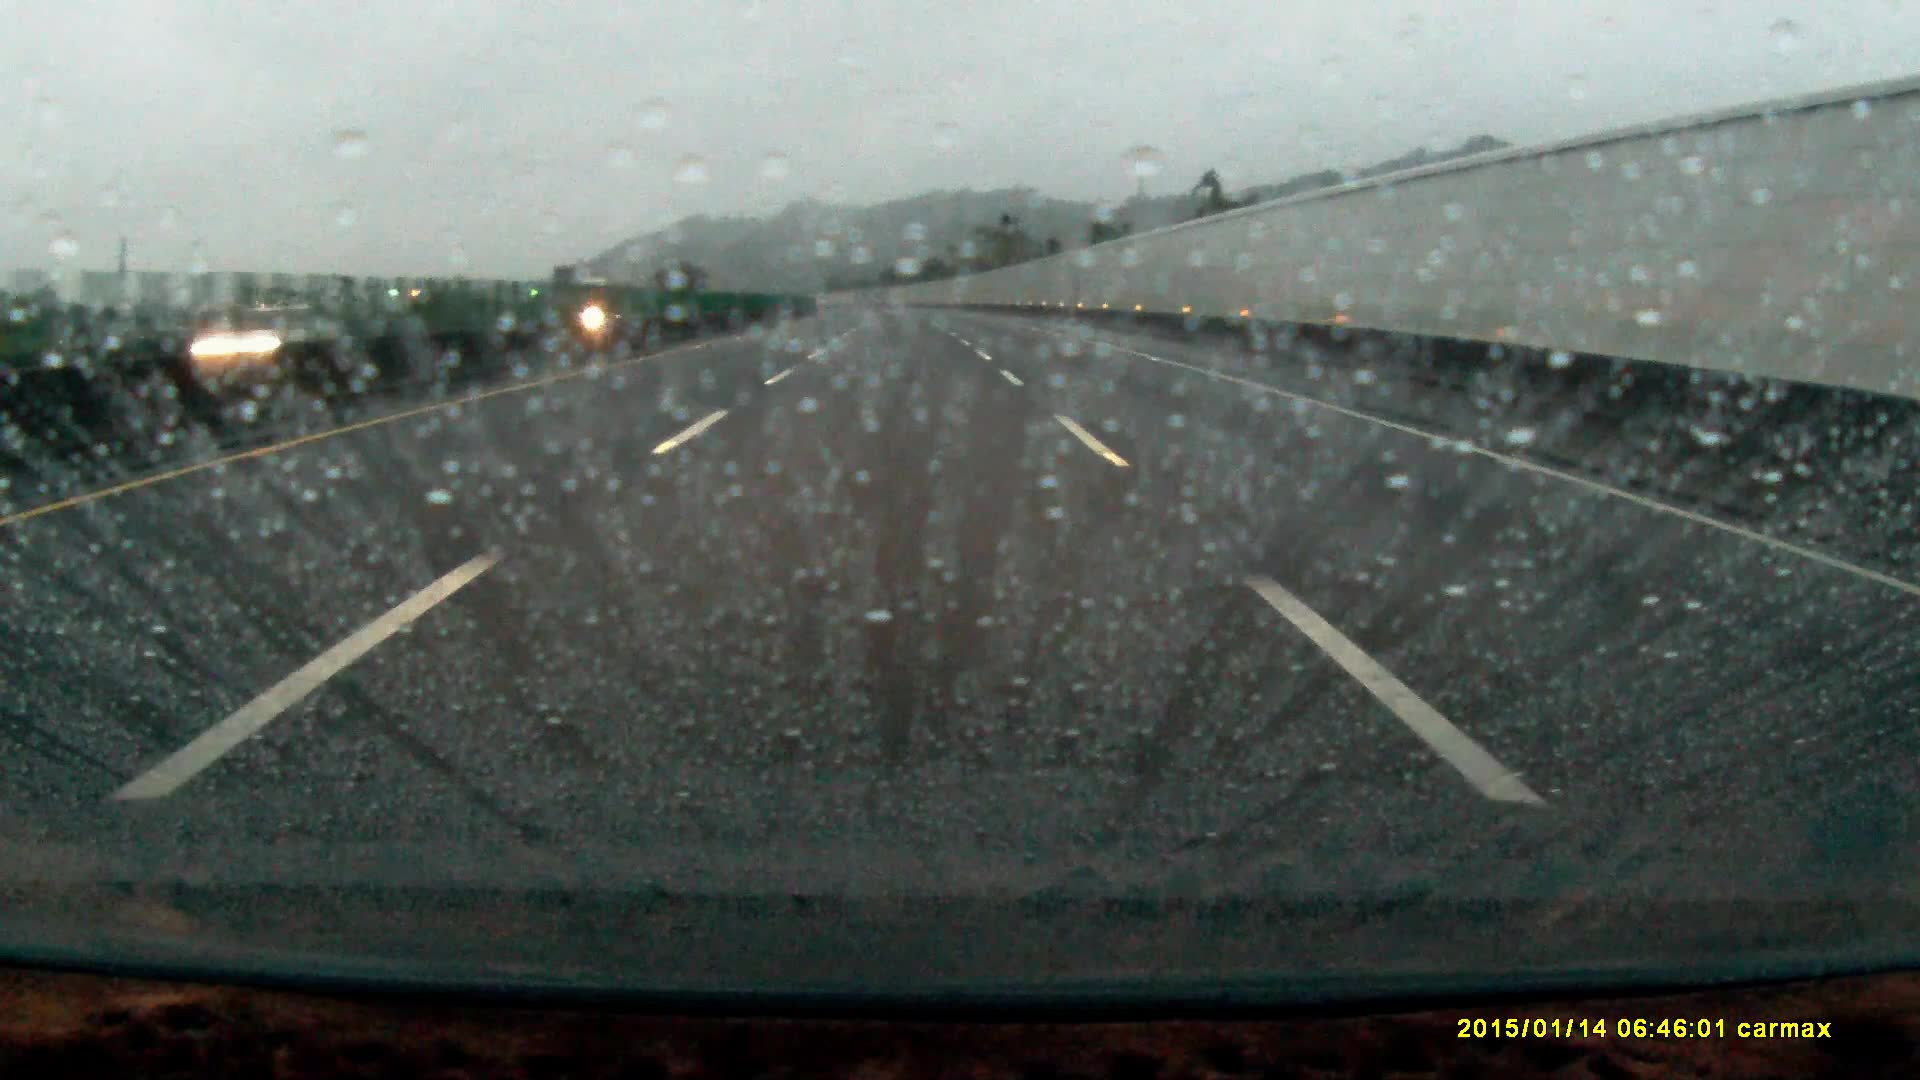vehicle: (195, 302, 356, 372), (574, 299, 647, 331)
